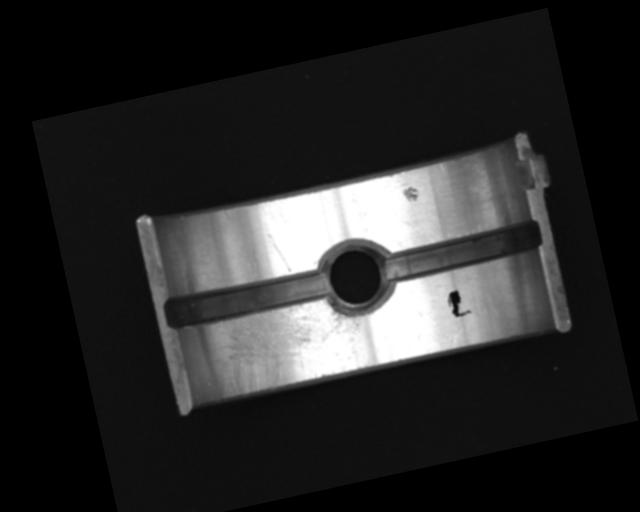blot: (445, 286, 472, 319)
bruise: (401, 185, 421, 204)
gap: (161, 262, 333, 335), (380, 219, 543, 285)
hole: (316, 235, 398, 322)
nick: (267, 231, 292, 276)
scratch: (200, 293, 372, 401)
